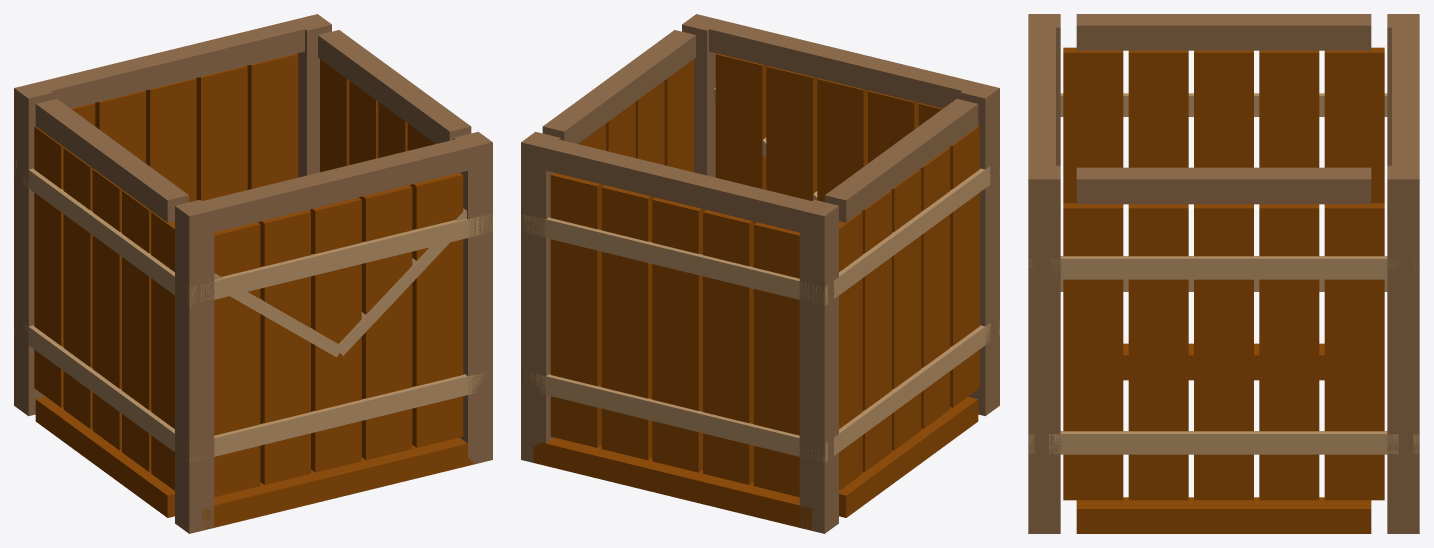
The model's file is lib_lib_prop_crate.glb.
3 views of the same model, side by side, from view 1: azimuth 30°, elevation 25°; view 2: azimuth 150°, elevation 25°; view 3: azimuth 270°, elevation 25° (orthographic). The views are drawn at different scales.
Visible parts, largest first — view 1: crate_body; view 2: crate_body; view 3: crate_body.
Boxes of the visible parts, bbox=[...] form: crate_body: bbox=[14, 14, 492, 533]; crate_body: bbox=[521, 14, 999, 533]; crate_body: bbox=[1028, 14, 1419, 533].
Size of the model in its own units: 0.85 by 0.85 by 0.85.
